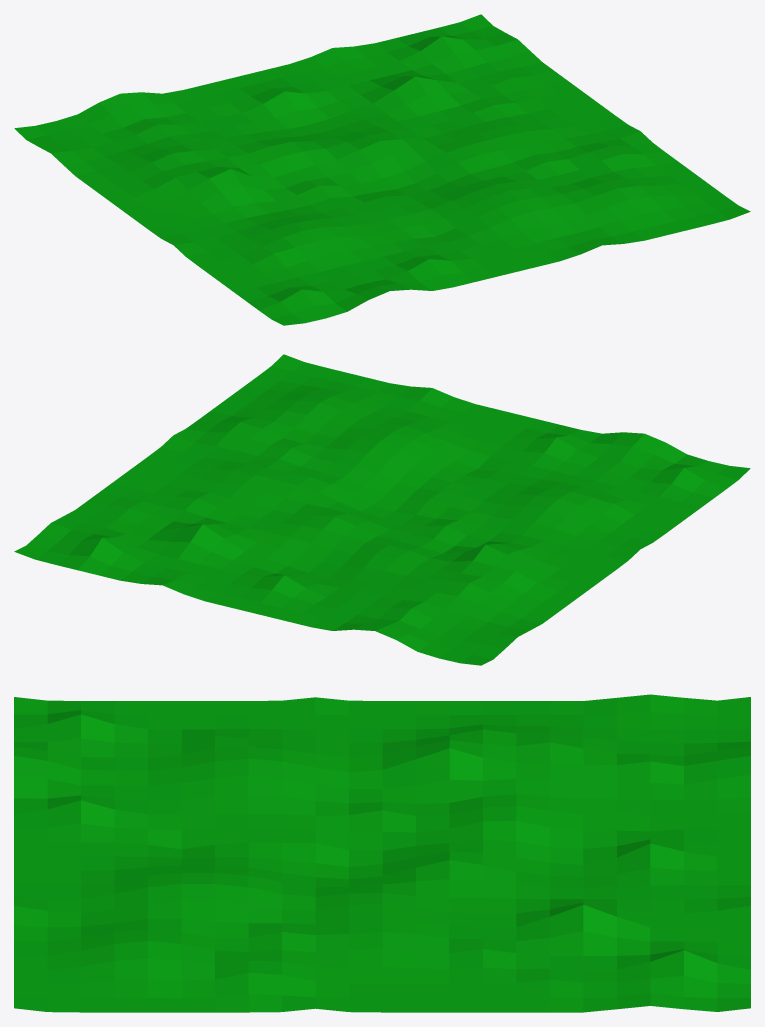
The model's file is ground1.fbx.
The picture shows the model from 3 angles, top to bottom: view 1: azimuth 30°, elevation 25°; view 2: azimuth 150°, elevation 25°; view 3: azimuth 270°, elevation 25°; orthographic projection. The views are drawn at different scales.
Parts seen in each view (by area): view 1: Plane.001; view 2: Plane.001; view 3: Plane.001.
Boxes of the visible parts, x1=… form: Plane.001: x1=14, y1=14, x2=750, y2=325; Plane.001: x1=14, y1=354, x2=750, y2=665; Plane.001: x1=14, y1=694, x2=750, y2=1012.
Bounding box in the file's own units: 4000 × 204 × 4000.
